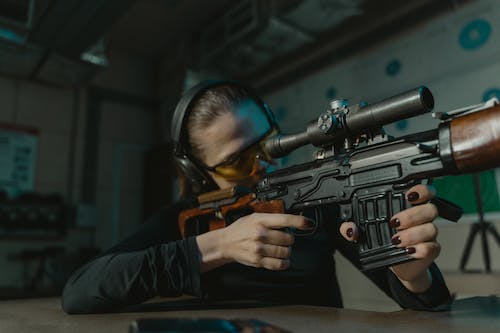gun: (175, 82, 500, 274)
